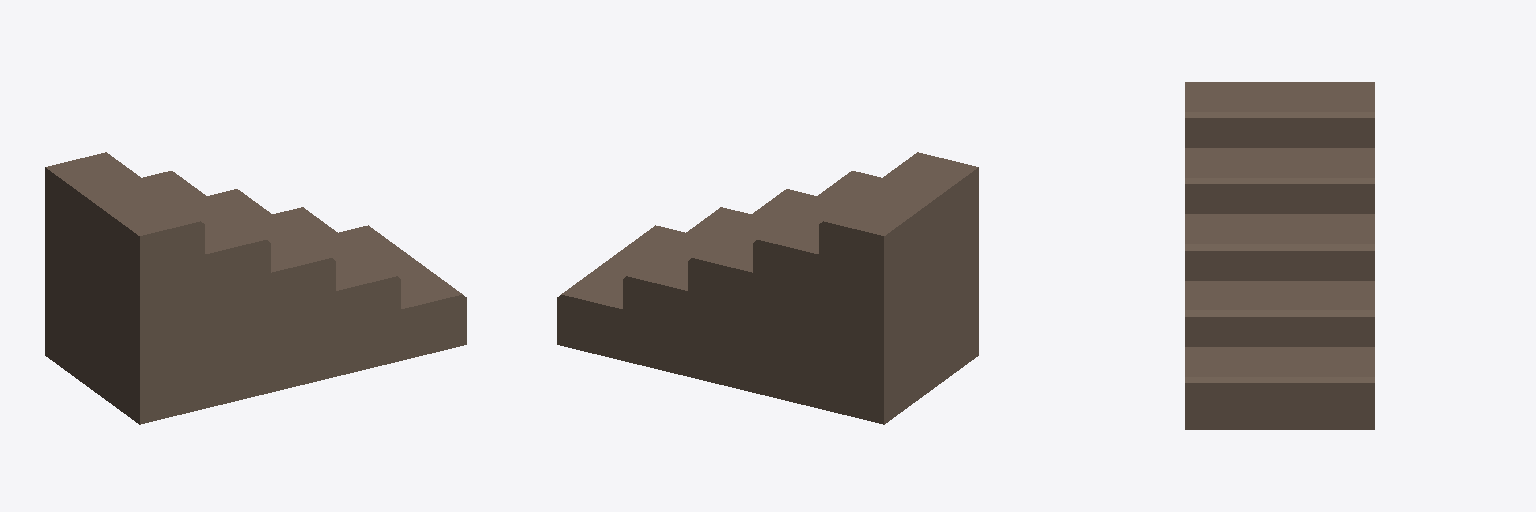
The model's file is Stone_Steps.obj.
3 views of the same model, side by side, from view 1: azimuth 30°, elevation 25°; view 2: azimuth 150°, elevation 25°; view 3: azimuth 270°, elevation 25° (orthographic).
Visible parts, largest first — view 1: object1; view 2: object1; view 3: object1.
Part boxes in pixels (x1,y1,x2,y2): object1: (45,152,466,424); object1: (557,152,978,424); object1: (1185,82,1374,429).
Bounding box in the file's own units: 2 × 1.1 × 1.